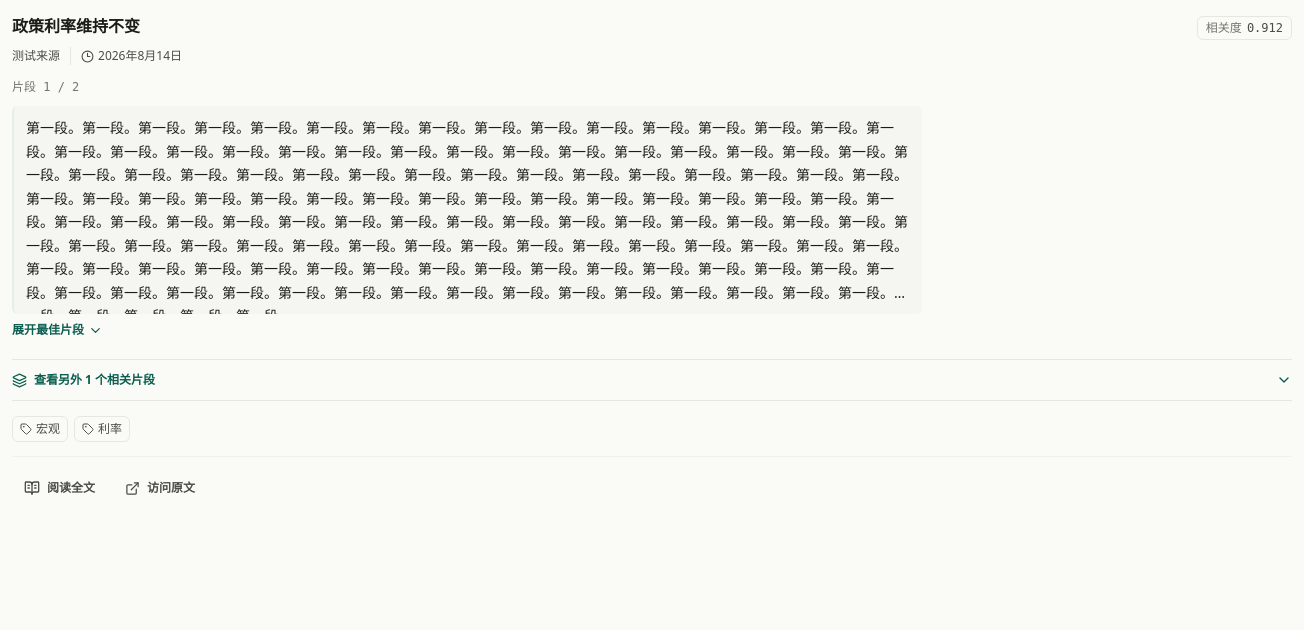
it: SearchResultCard › expands the full best-match text and collapses it again
Click the button with class "best-expand" at [58, 330], box [12, 314, 103, 346]
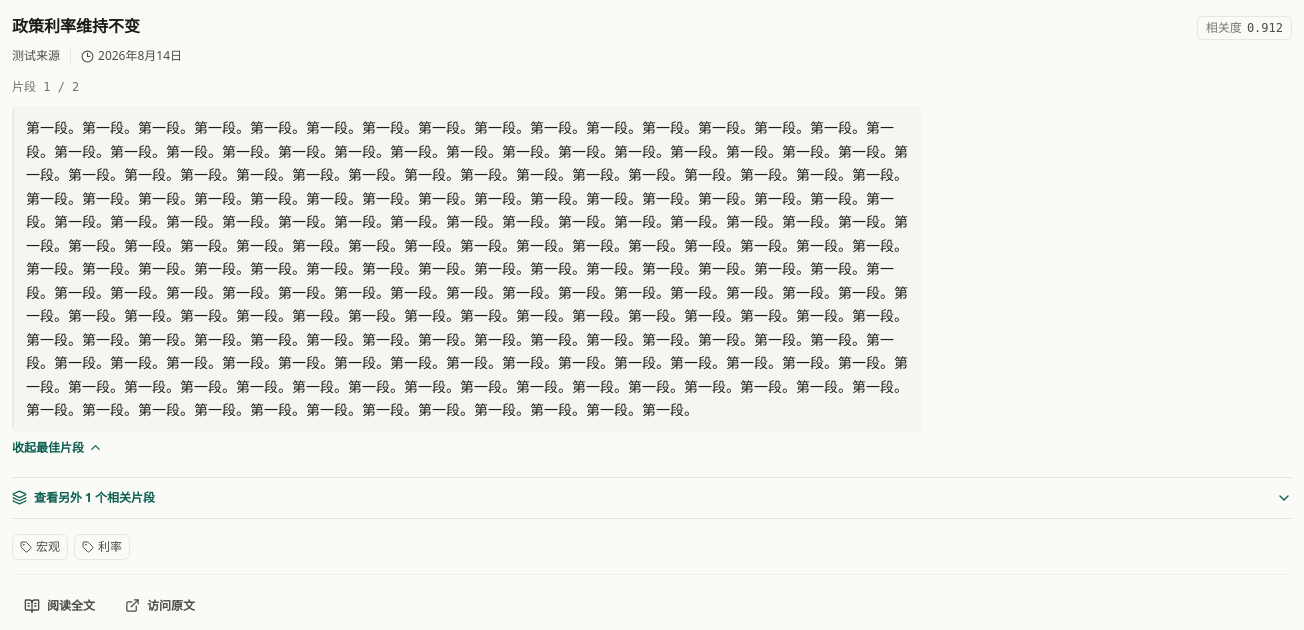
Expected: the button with class "best-expand" is expanded
Click the button with class "best-expand" at [58, 448], box [12, 432, 103, 464]
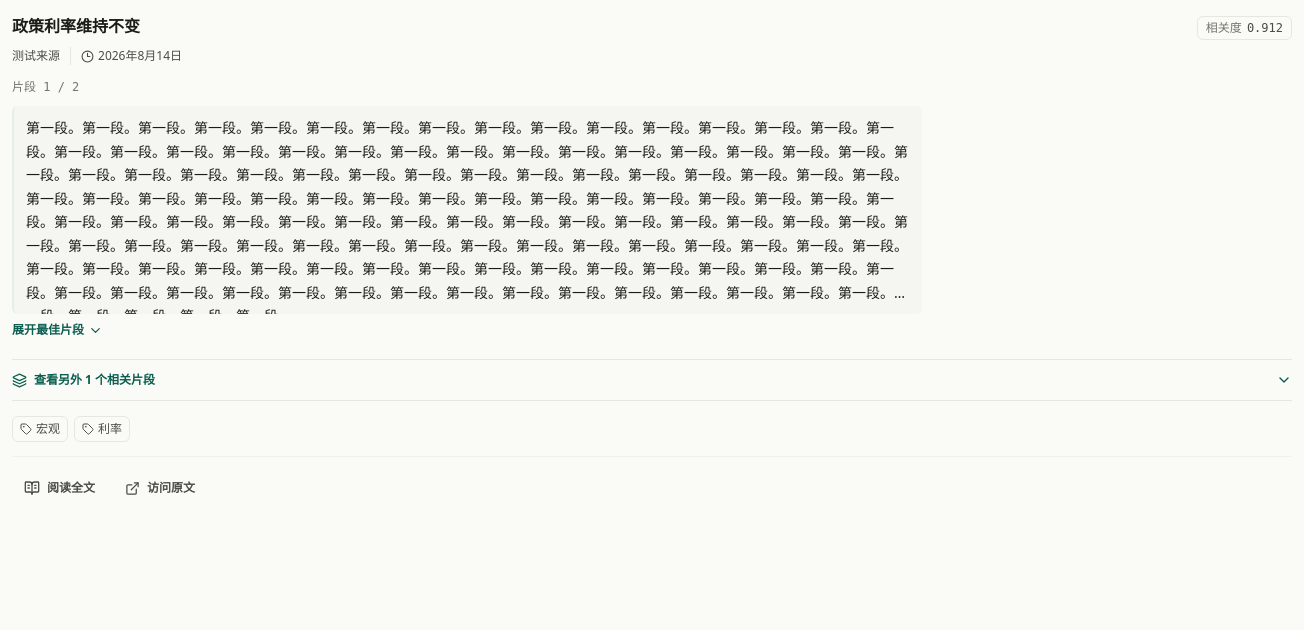
Expected: the button with class "best-expand" is collapsed, [12, 314, 103, 346]
